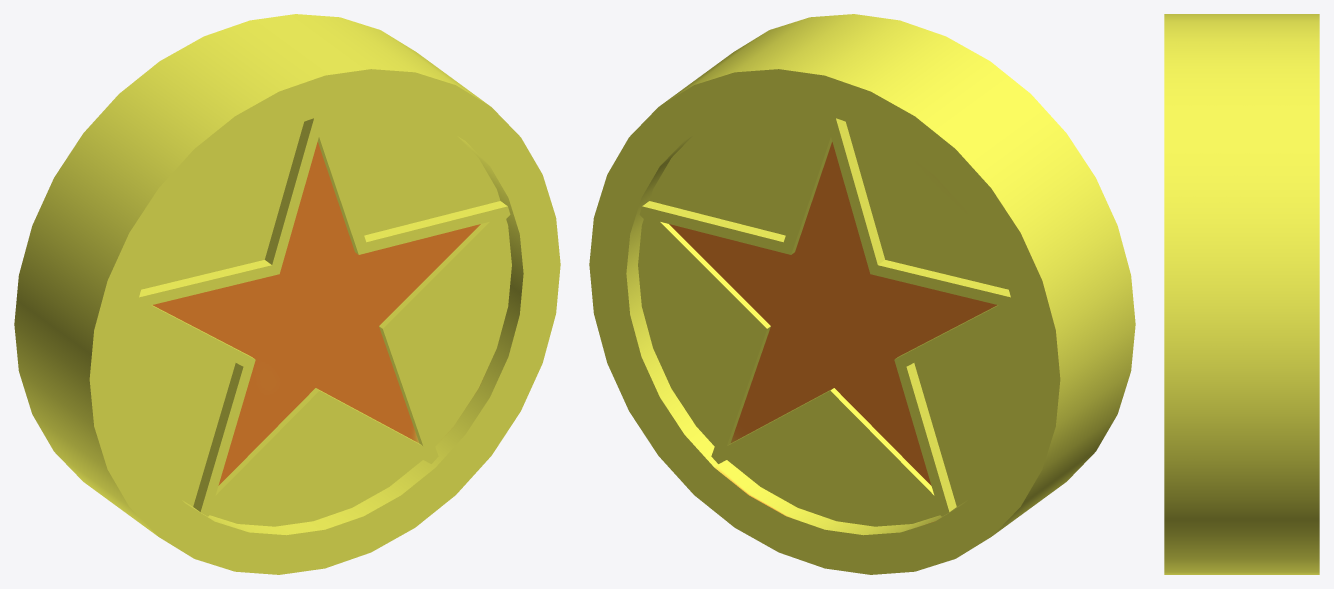
The model's file is Coin.fbx.
3 renders of one model, left to right at view 1: azimuth 30°, elevation 25°; view 2: azimuth 150°, elevation 25°; view 3: azimuth 270°, elevation 25°, orthographic. The views are drawn at different scales.
Parts seen in each view (by area): view 1: Cylinder; view 2: Cylinder; view 3: Cylinder.
Part boxes in pixels (x1,y1,x2,y2): Cylinder: (14, 14, 560, 574); Cylinder: (589, 14, 1135, 574); Cylinder: (1164, 14, 1319, 574).
Size of the model in its own units: 458 by 458 by 127.
Materials: 1 (1 with a texture image).
